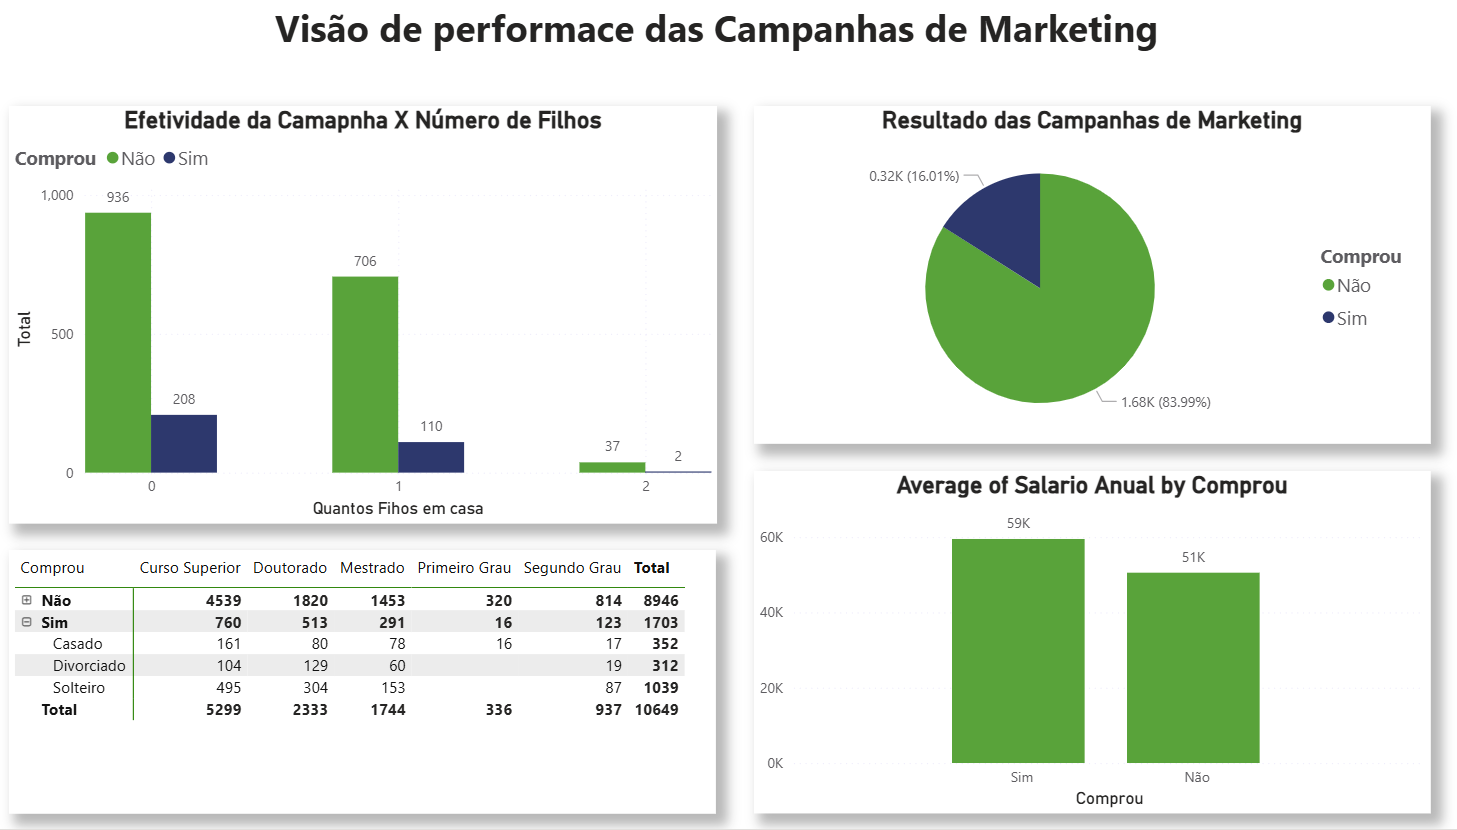

Layout of this report page (visuals, bound fields, positions):
{"tool":"powerbi","page":{"name":"Visão Camapnha","canvas":[1280,720],"ordinal":2},"visuals":[{"type":"textbox","box":[0,0,1280.3,67.2],"z":0},{"type":"pieChart","title":"Resultado das Campanhas de Marketing","fields":{"Y":["CountNonNull(DadosMarketing.ID)"],"Category":["DadosMarketing.Comprou"]},"box":[672.4,94.7,584.6,292.3],"z":1000},{"type":"columnChart","fields":{"Category":["DadosMarketing.Comprou"],"Y":["Avg(DadosMarketing.Salario Anual)"]},"box":[672.4,410.3,584.6,296.4],"z":2000},{"type":"pivotTable","fields":{"Rows":["DadosMarketing.Comprou","DadosMarketing.Estado Civil"],"Values":["Sum(DadosMarketing.Numero Visitas WebSite Mes)"],"Columns":["DadosMarketing.Escolaridade"]},"box":[28.8,478.9,610.6,227.8],"z":3000},{"type":"clusteredColumnChart","title":"Efetividade da Camapnha X Número de Filhos","fields":{"Category":["DadosMarketing.Filhos em Casa"],"Series":["DadosMarketing.Comprou"],"Y":["CountNonNull(DadosMarketing.Filhos em Casa)"]},"box":[28.8,94.7,612,360.9],"z":4000}]}

Visuals, with their boxes in screenshot pixels (x1, y1, x2, y2), scaled from the page's 1280x720 canvas onto the 1457x830 screenshot:
textbox: x1=0 y1=0 x2=1456 y2=77
"Resultado das Campanhas de Marketing" pieChart: x1=765 y1=109 x2=1431 y2=446
columnChart - DadosMarketing.Comprou x Avg(DadosMarketing.Salario Anual): x1=765 y1=473 x2=1431 y2=815
pivotTable - DadosMarketing.Comprou x DadosMarketing.Estado Civil: x1=33 y1=552 x2=728 y2=815
"Efetividade da Camapnha X Número de Filhos" clusteredColumnChart: x1=33 y1=109 x2=729 y2=525
